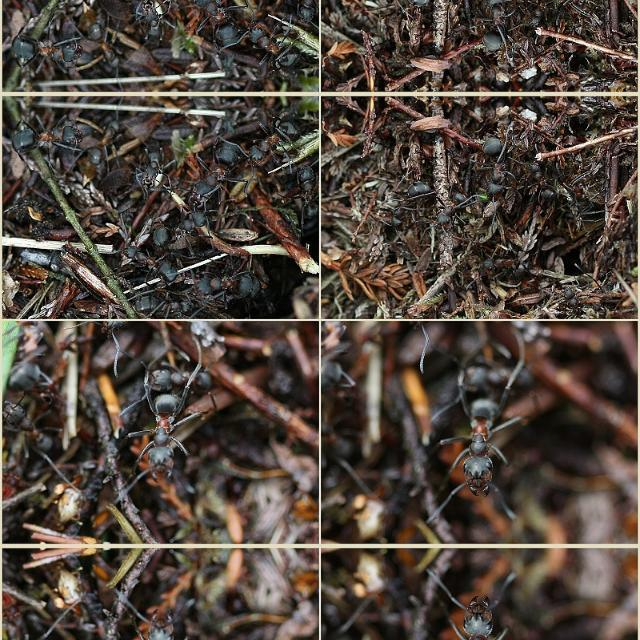Formica: (444, 383, 528, 511), (130, 384, 198, 480), (125, 353, 227, 403), (444, 580, 526, 640), (183, 136, 251, 206), (5, 109, 94, 155), (5, 31, 94, 77), (0, 387, 56, 459), (471, 131, 523, 201), (362, 175, 428, 227), (183, 0, 251, 50), (128, 282, 206, 324), (145, 200, 219, 244), (471, 0, 523, 54), (194, 261, 264, 299), (115, 245, 182, 282), (428, 186, 484, 230), (476, 243, 546, 277), (130, 610, 198, 640), (362, 0, 428, 10)
